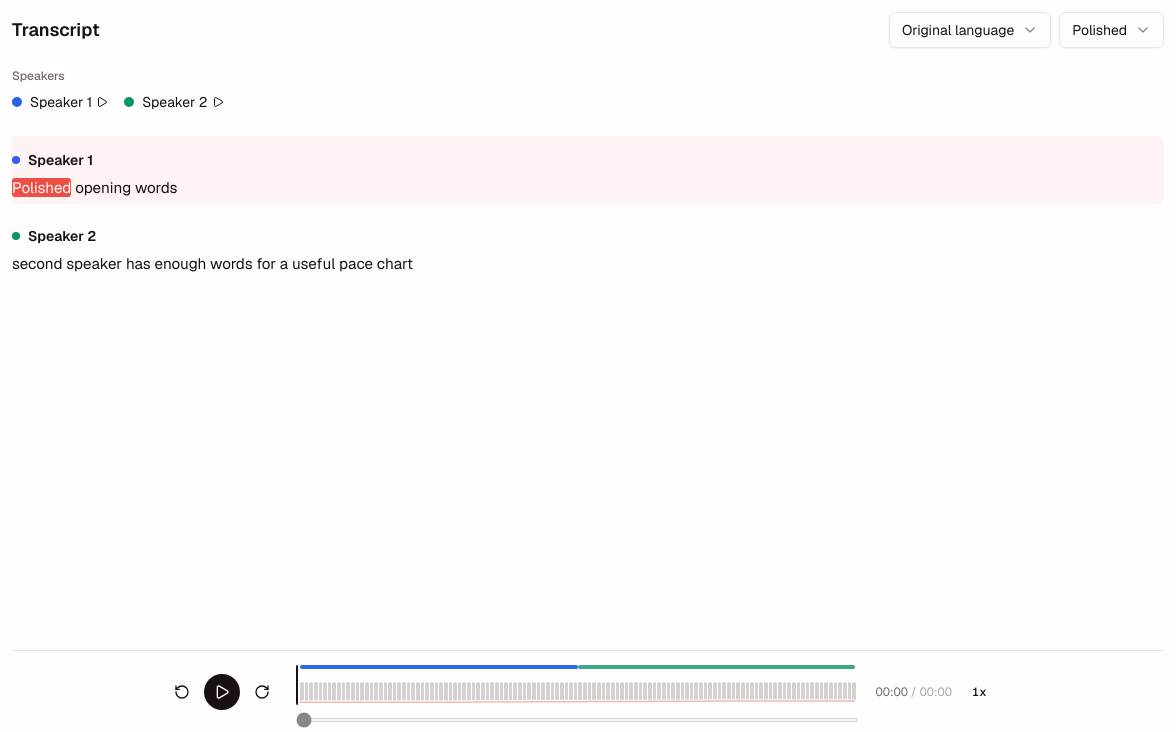
it: TranscriptViewer interactions › reports playback rejection from the persistent audio controls
The image size is (1176, 732).
Click the button named "Play audio" at (222, 692), box [204,674,240,710]
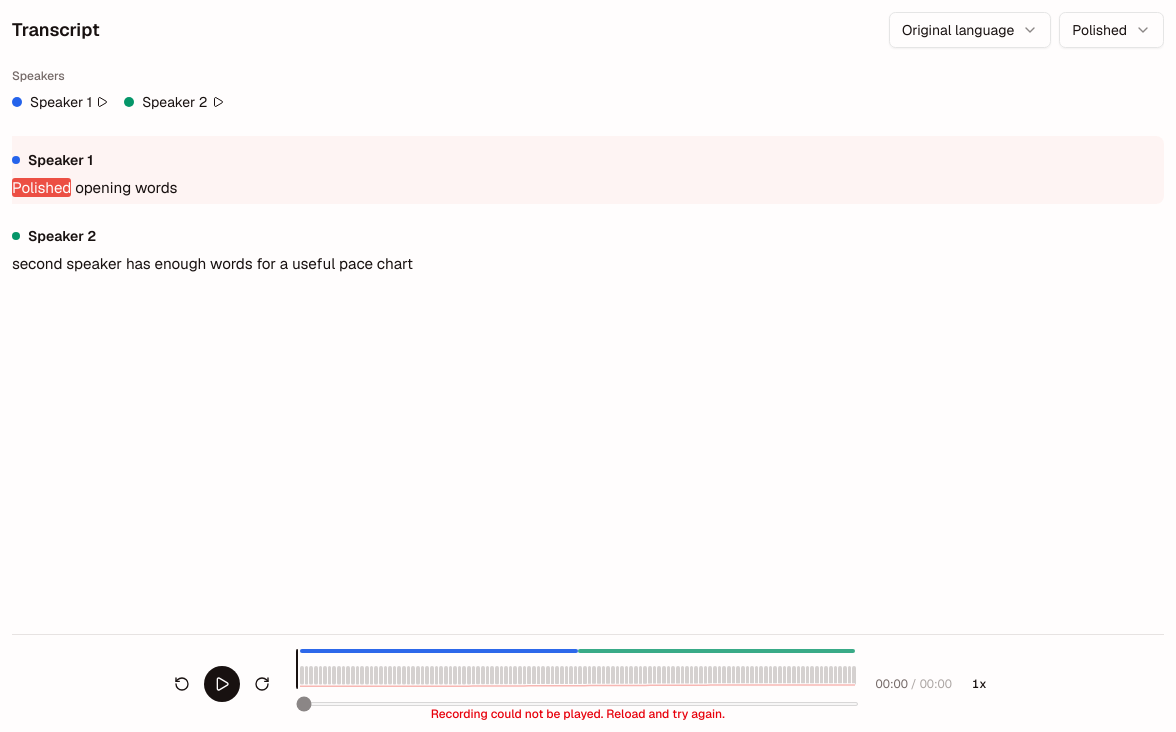
Expected: the message reads "Recording could not be played. Reload and try again.", [431,706,725,722]
